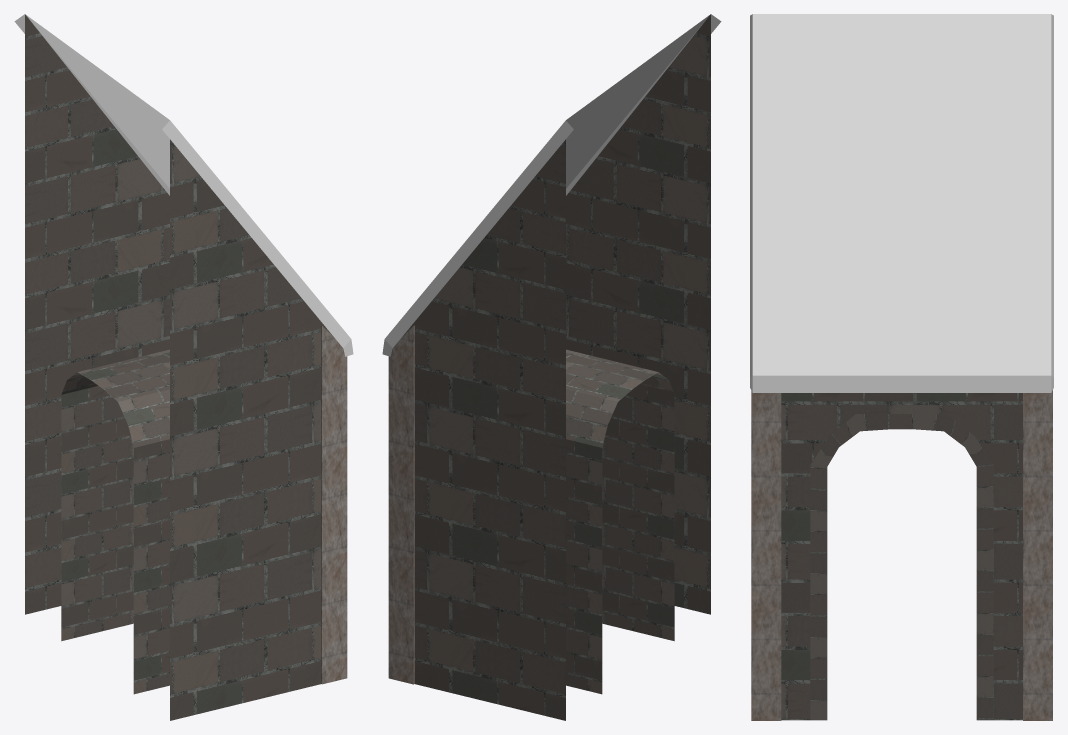
Rendered from TestTackOn01.fbx.
3 views of the same model, side by side, from view 1: azimuth 30°, elevation 25°; view 2: azimuth 150°, elevation 25°; view 3: azimuth 270°, elevation 25° (orthographic). The views are drawn at different scales.
Parts seen in each view (by area): view 1: TackOn01; view 2: TackOn01; view 3: TackOn01.
Part boxes in pixels (x1=…): TackOn01: x1=14, y1=14, x2=353, y2=720; TackOn01: x1=382, y1=14, x2=721, y2=720; TackOn01: x1=750, y1=14, x2=1053, y2=720.
Size of the model in its own units: 153 by 457 by 203.
3 materials, 2 textured.
